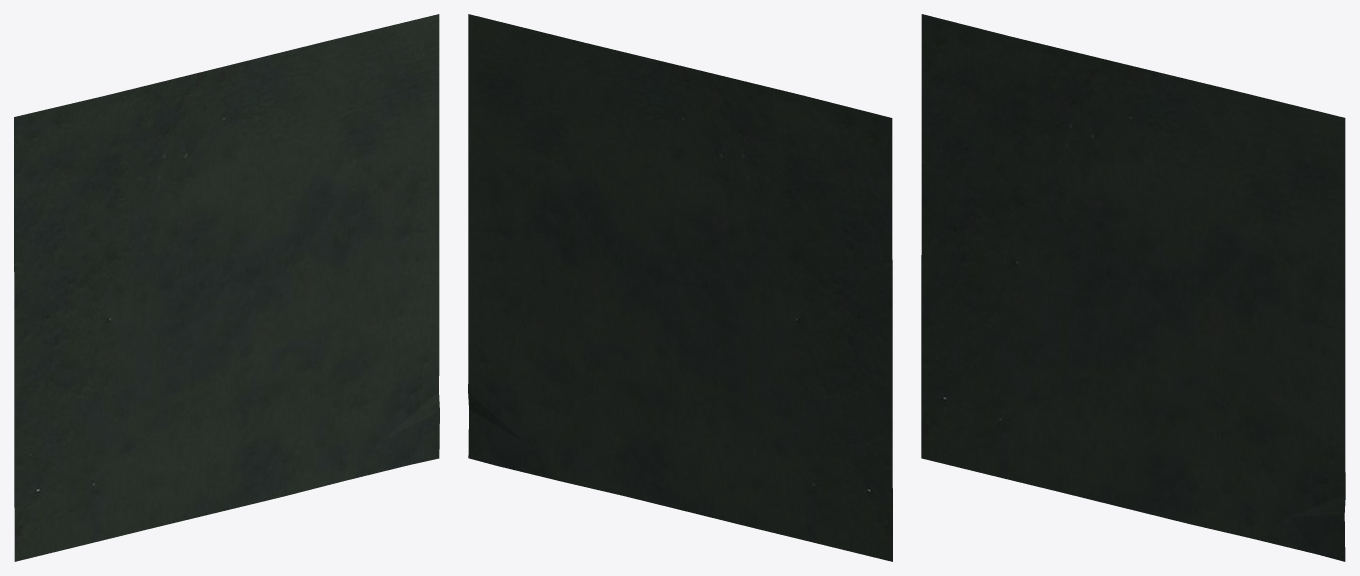
Rendered from Tile_+032_+024_L20_0002220.obj.
3 views of the same model, side by side, from view 1: azimuth 30°, elevation 25°; view 2: azimuth 150°, elevation 25°; view 3: azimuth 330°, elevation 25° (orthographic).
Bounding box in the file's own units: 31.38 × 31.38 × 0.2059.
Materials: 1 (1 with a texture image).
